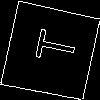T: (25, 26, 78, 65)
